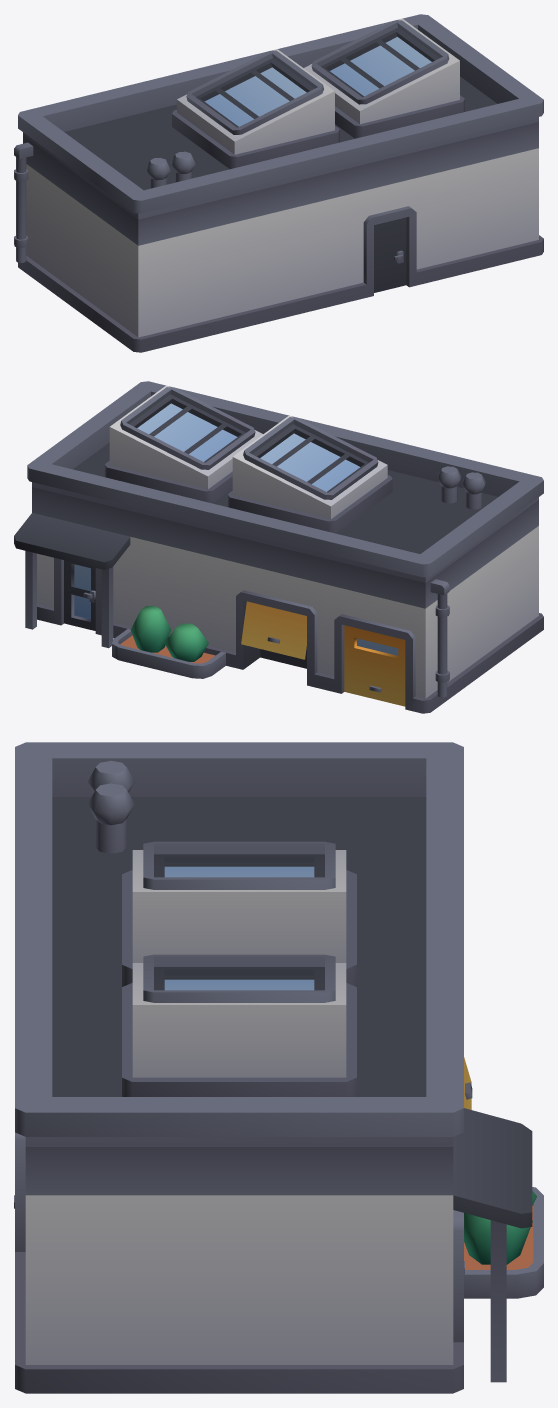
The model's file is industrial-building-p.glb.
3 renders of one model, top to bottom at view 1: azimuth 30°, elevation 25°; view 2: azimuth 150°, elevation 25°; view 3: azimuth 270°, elevation 25°, orthographic. The views are drawn at different scales.
Parts seen in each view (by area): view 1: building-p; view 2: building-p; view 3: building-p.
Part boxes in pixels (x1=…): building-p: x1=14, y1=14, x2=543, y2=352; building-p: x1=14, y1=381, x2=543, y2=713; building-p: x1=14, y1=742, x2=543, y2=1393.
Bounding box in the file's own units: 1.68 × 0.7146 × 0.992.
